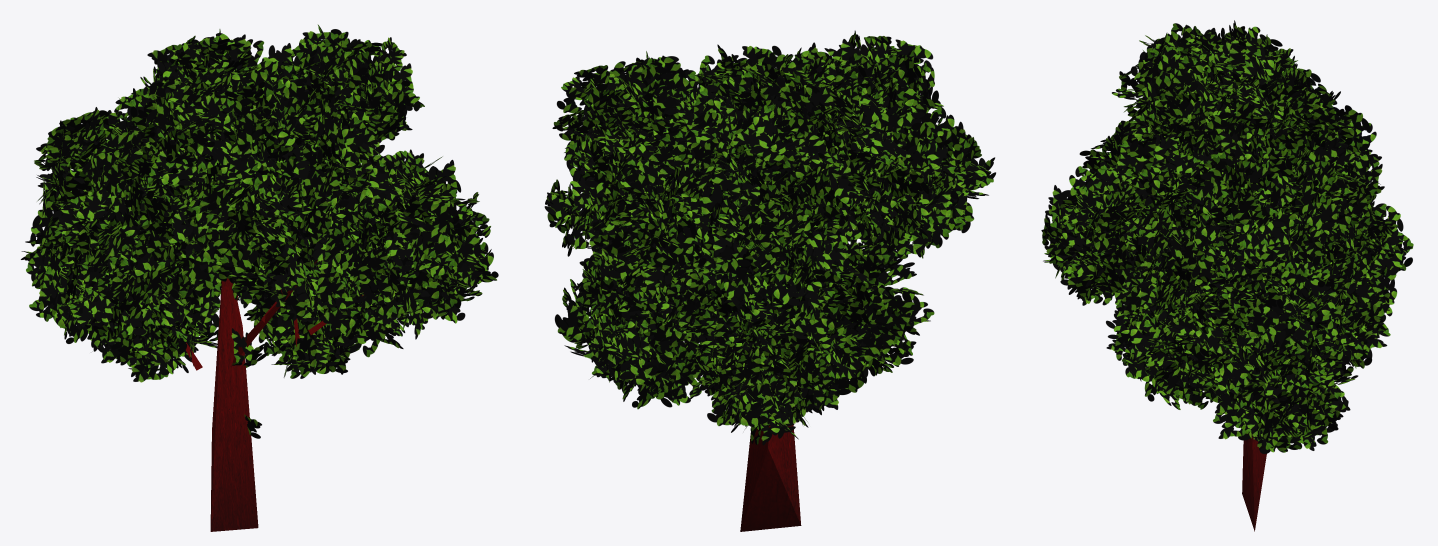
The model's file is oak_broadleaf_v01_LOD1.glb.
3 renders of one model, left to right at view 1: azimuth 30°, elevation 25°; view 2: azimuth 150°, elevation 25°; view 3: azimuth 270°, elevation 25°, orthographic. The views are drawn at different scales.
Parts seen in each view (by area): view 1: oak_broadleaf_v01_LOD1; view 2: oak_broadleaf_v01_LOD1; view 3: oak_broadleaf_v01_LOD1.
Boxes of the visible parts, x1,y1,x2,y2 form: oak_broadleaf_v01_LOD1: (21, 24, 498, 531); oak_broadleaf_v01_LOD1: (544, 30, 995, 531); oak_broadleaf_v01_LOD1: (1041, 20, 1413, 531).
Bounding box in the file's own units: 14.99 × 17.06 × 12.67.
2 materials, 2 textured.
